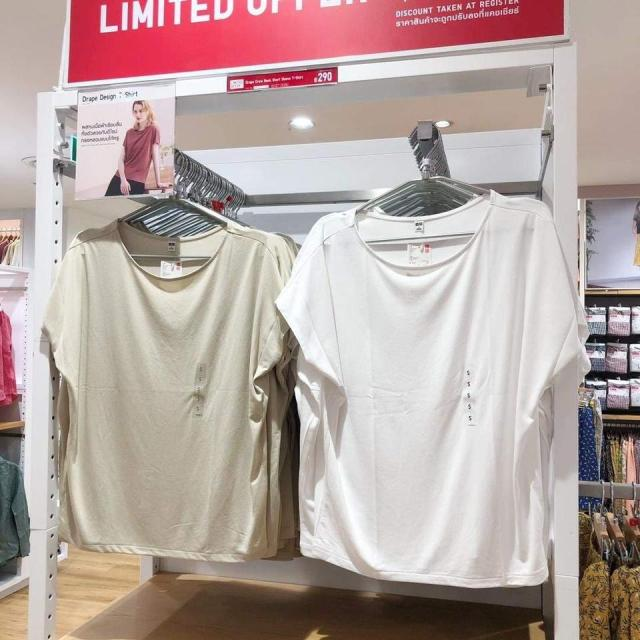Tshirt: (288, 198, 574, 582), (35, 226, 292, 562)
